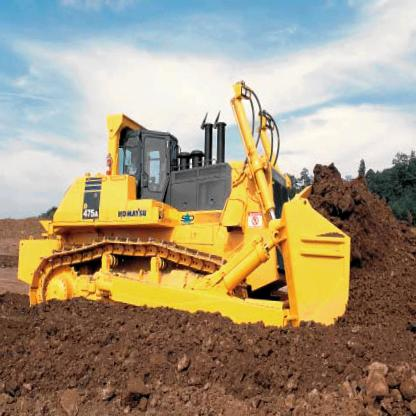bull_dozer/loader/grader: (16, 71, 367, 352)
